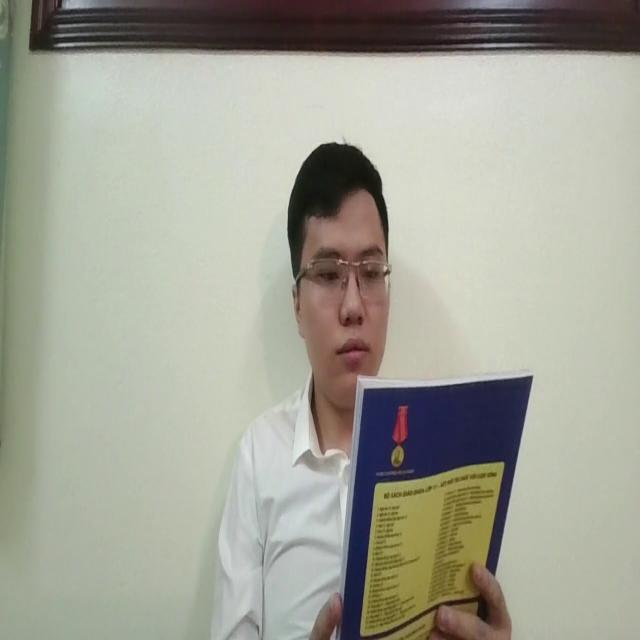book: (338, 359, 534, 640)
student: (202, 137, 396, 637)
